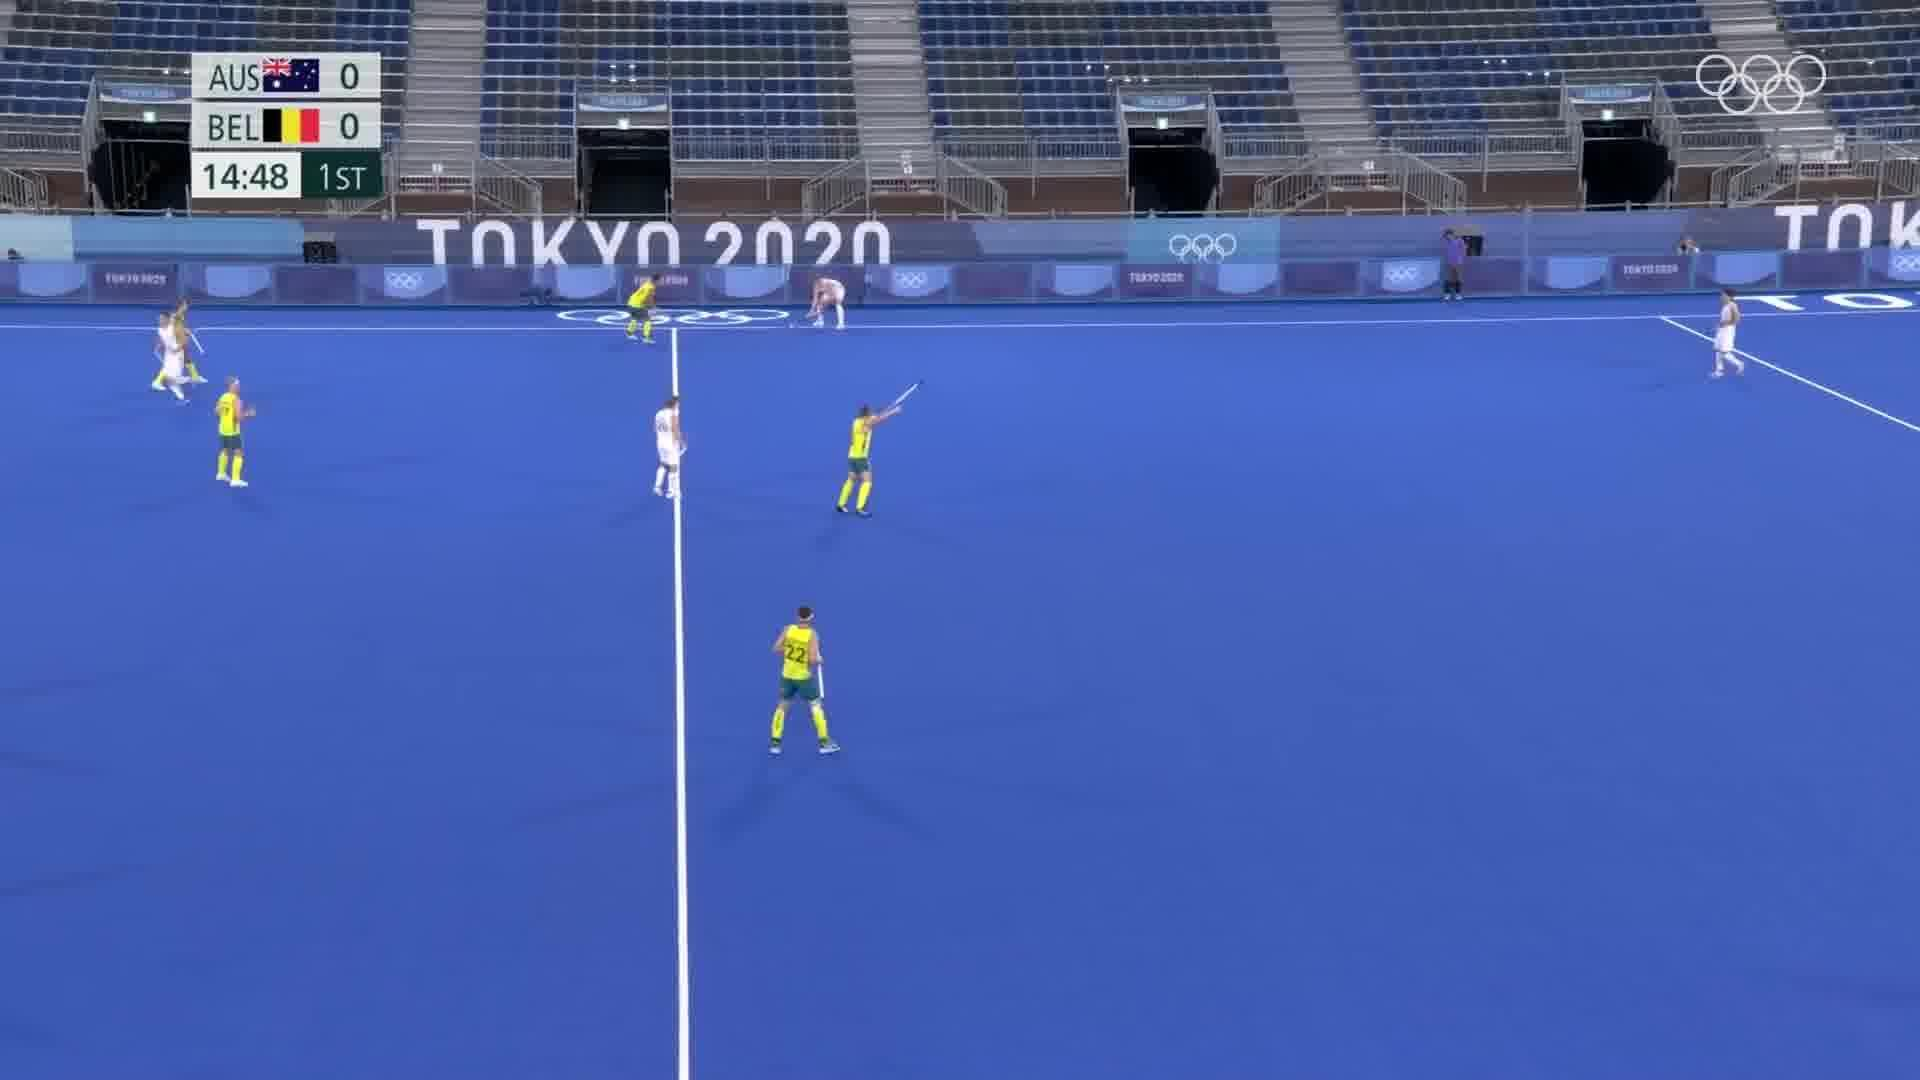ball: (783, 320, 794, 332)
